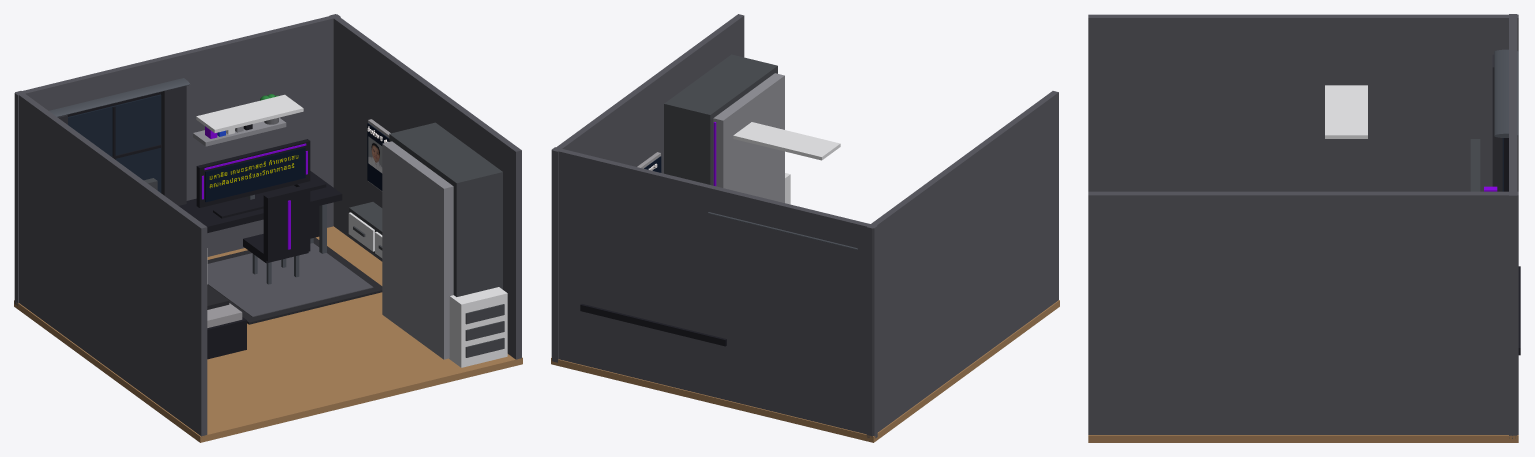
The model's file is BEDROOM16.glb.
3 views of the same model, side by side, from view 1: azimuth 30°, elevation 25°; view 2: azimuth 150°, elevation 25°; view 3: azimuth 270°, elevation 25° (orthographic). The views are drawn at different scales.
Visible parts, largest first — view 1: LEFT_WALL, FLOOR, BACK_WALL, RIGHT_WALL, WARDROBE_DOOR_1, WARDROBE_BODY, WORK_RUG_BORDER, WINDOW_GLASS, CHAIR_BACK, MONITOR_SCREEN, DRAWER_UNIT, CURTAIN_RIGHT (+15 smaller); view 2: BACK_WALL, LEFT_WALL, RIGHT_WALL, WARDROBE_BODY, WARDROBE_DOOR_1, FLOOR, CEILING_LIGHT, GAMING_DESK; view 3: RIGHT_WALL, LEFT_WALL, BACK_WALL, FLOOR, CEILING_LIGHT, CURTAIN_ROD, BED_HEADBOARD, CURTAIN_RIGHT.
Boxes of the visible parts, <box> form: LEFT_WALL: <box>15,91,207,436</box>; FLOOR: <box>14,226,522,442</box>; BACK_WALL: <box>14,14,340,305</box>; RIGHT_WALL: <box>329,14,521,359</box>; WARDROBE_DOOR_1: <box>382,141,453,359</box>; WARDROBE_BODY: <box>389,122,502,296</box>; WORK_RUG_BORDER: <box>207,243,373,317</box>; WINDOW_GLASS: <box>68,94,161,192</box>; CHAIR_BACK: <box>263,185,310,261</box>; MONITOR_SCREEN: <box>205,147,305,202</box>; DRAWER_UNIT: <box>449,287,507,367</box>; CURTAIN_RIGHT: <box>161,85,186,205</box>; BACK_WALL: <box>551,147,877,438</box>; LEFT_WALL: <box>866,91,1058,437</box>; RIGHT_WALL: <box>552,14,744,362</box>; WARDROBE_BODY: <box>664,54,777,185</box>; WARDROBE_DOOR_1: <box>713,73,784,202</box>; FLOOR: <box>551,300,1059,442</box>; CEILING_LIGHT: <box>733,122,840,160</box>; GAMING_DESK: <box>580,304,726,346</box>; RIGHT_WALL: <box>1088,191,1518,434</box>; LEFT_WALL: <box>1088,14,1518,191</box>; BACK_WALL: <box>1509,14,1517,438</box>; FLOOR: <box>1088,435,1518,442</box>; CEILING_LIGHT: <box>1325,85,1367,138</box>; CURTAIN_ROD: <box>1494,49,1518,137</box>; BED_HEADBOARD: <box>1470,139,1480,191</box>; CURTAIN_RIGHT: <box>1494,137,1502,191</box>.
Size of the model in its own units: 8 by 5.08 by 8.04.
29 materials, 1 textured.
